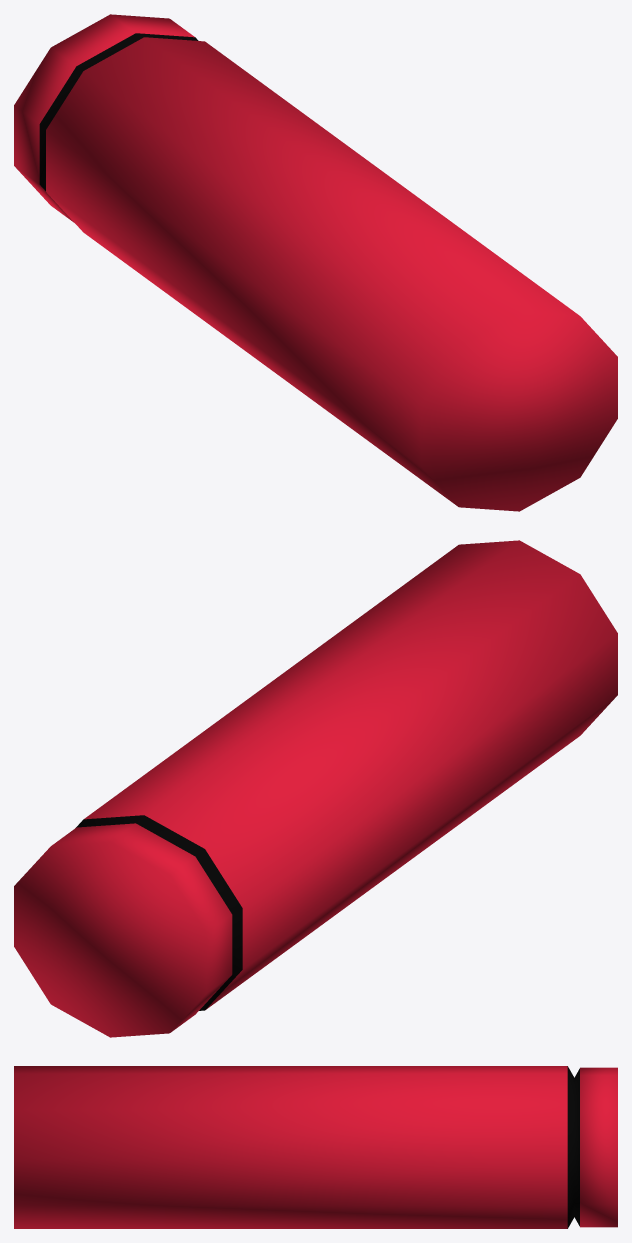
File: WorldItem_MapCapsule.fbx
3 renders of one model, top to bottom at view 1: azimuth 30°, elevation 25°; view 2: azimuth 150°, elevation 25°; view 3: azimuth 270°, elevation 25°, orthographic. The views are drawn at different scales.
Visible parts, largest first — view 1: Cylinder; view 2: Cylinder; view 3: Cylinder.
Part boxes in pixels (left/top/right/bottom): Cylinder: left=14, top=14, right=617, bottom=511; Cylinder: left=14, top=540, right=617, bottom=1037; Cylinder: left=14, top=1066, right=617, bottom=1228.
Size of the model in its own units: 0.0842 by 0.0817 by 0.3035.
